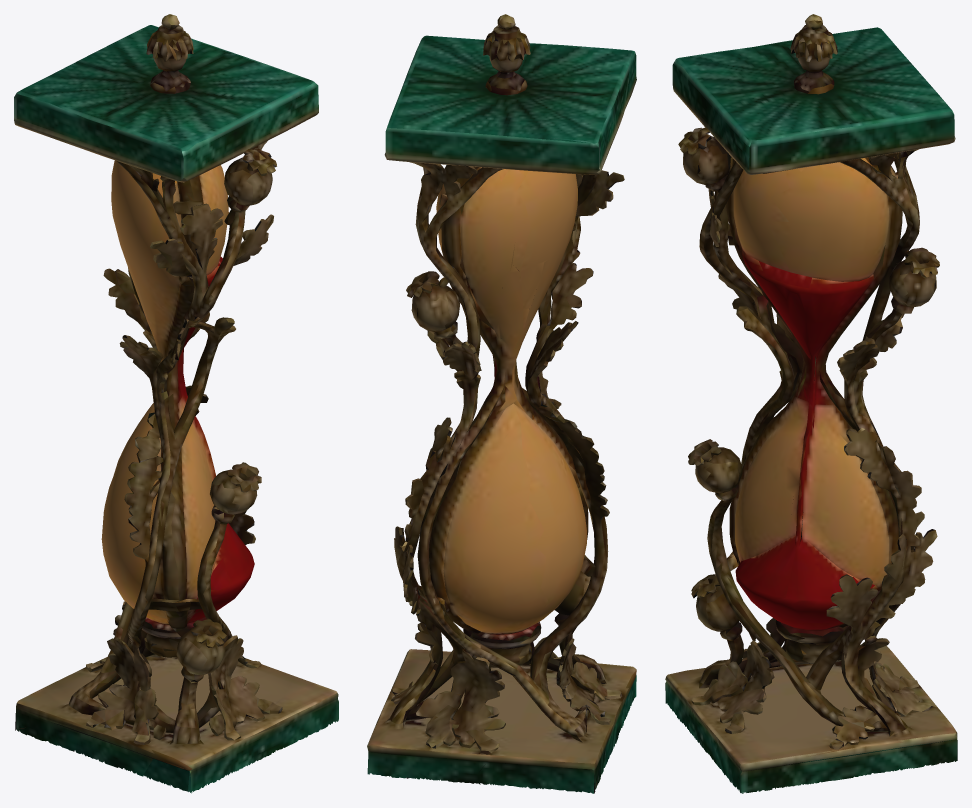
The model's file is MO-09_hourglass_game.glb.
The picture shows the model from 3 angles, left to right: view 1: azimuth 30°, elevation 25°; view 2: azimuth 150°, elevation 25°; view 3: azimuth 270°, elevation 25°; orthographic projection.
Parts seen in each view (by area): view 1: MO-09_hourglass; view 2: MO-09_hourglass; view 3: MO-09_hourglass.
Boxes of the visible parts, <box> form: MO-09_hourglass: <box>14,14,338,793</box>; MO-09_hourglass: <box>367,14,636,793</box>; MO-09_hourglass: <box>665,14,957,793</box>.
Bounding box in the file's own units: 0.1132 × 0.2999 × 0.1112.
Materials: 1 (1 with a texture image).
